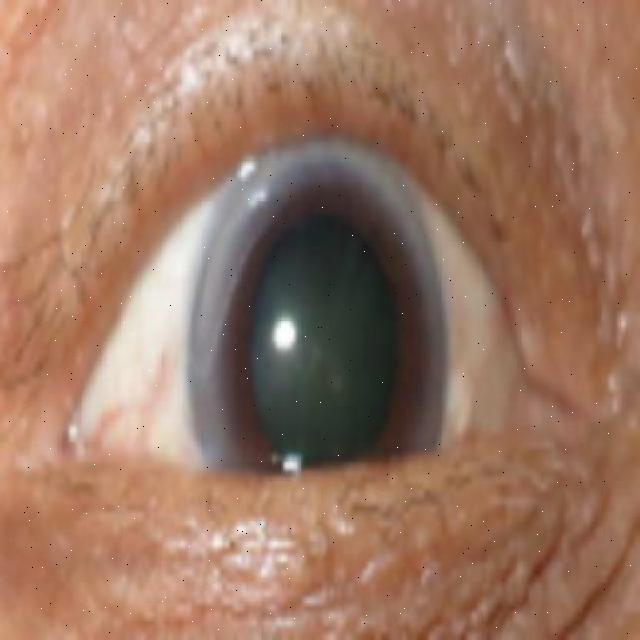Cataract: (192, 148, 452, 545)
